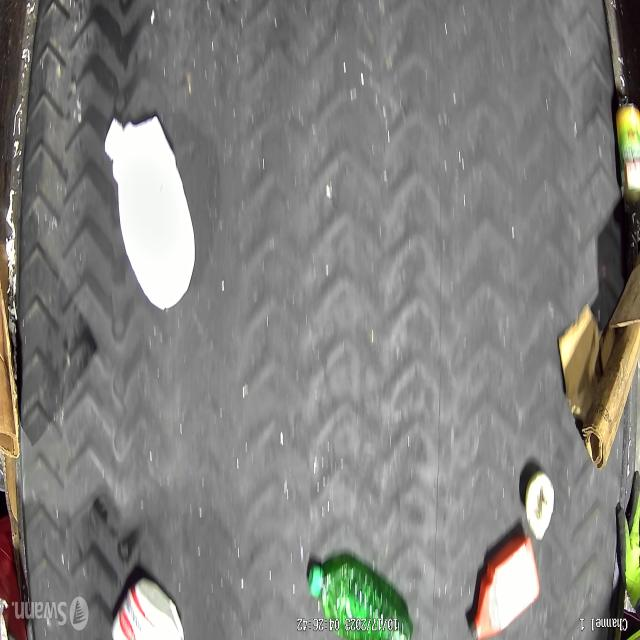non_white_jug: (470, 538, 540, 639)
plastic_bottle: (303, 558, 411, 640)
